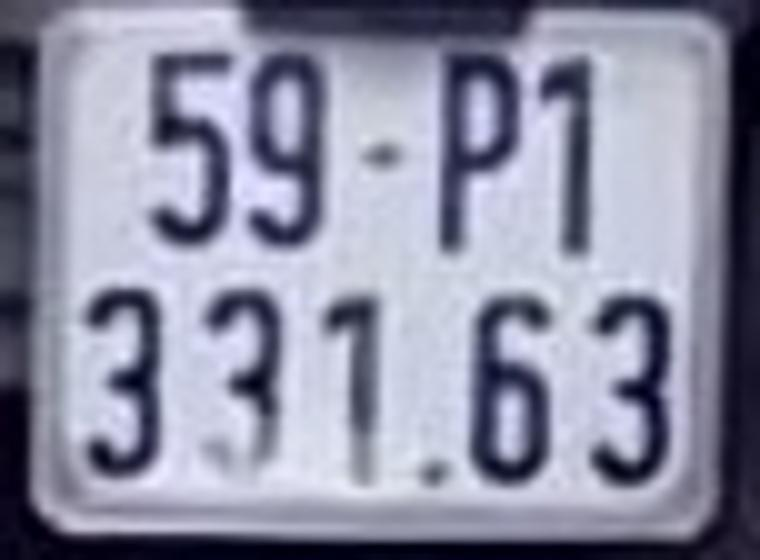-: (362, 136, 409, 175)
.: (414, 451, 462, 489)
1: (319, 289, 390, 497), (538, 49, 602, 265)
3: (197, 282, 288, 484), (589, 285, 676, 495), (80, 278, 167, 482)
5: (143, 47, 234, 248)
6: (461, 291, 565, 490)
9: (246, 42, 329, 256)
P: (437, 47, 527, 257)
